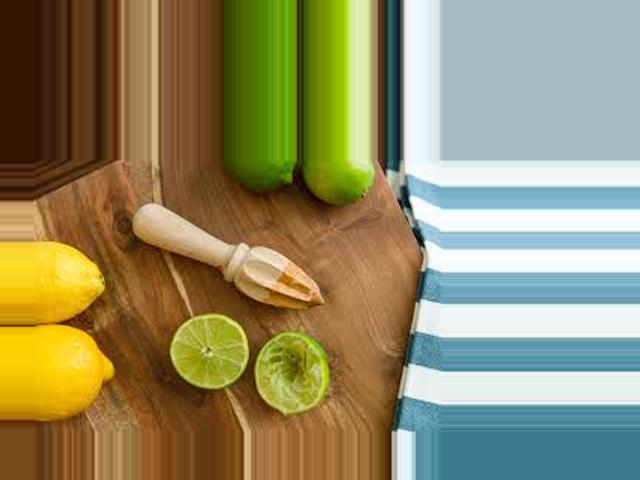lemon: (36, 313, 125, 426)
